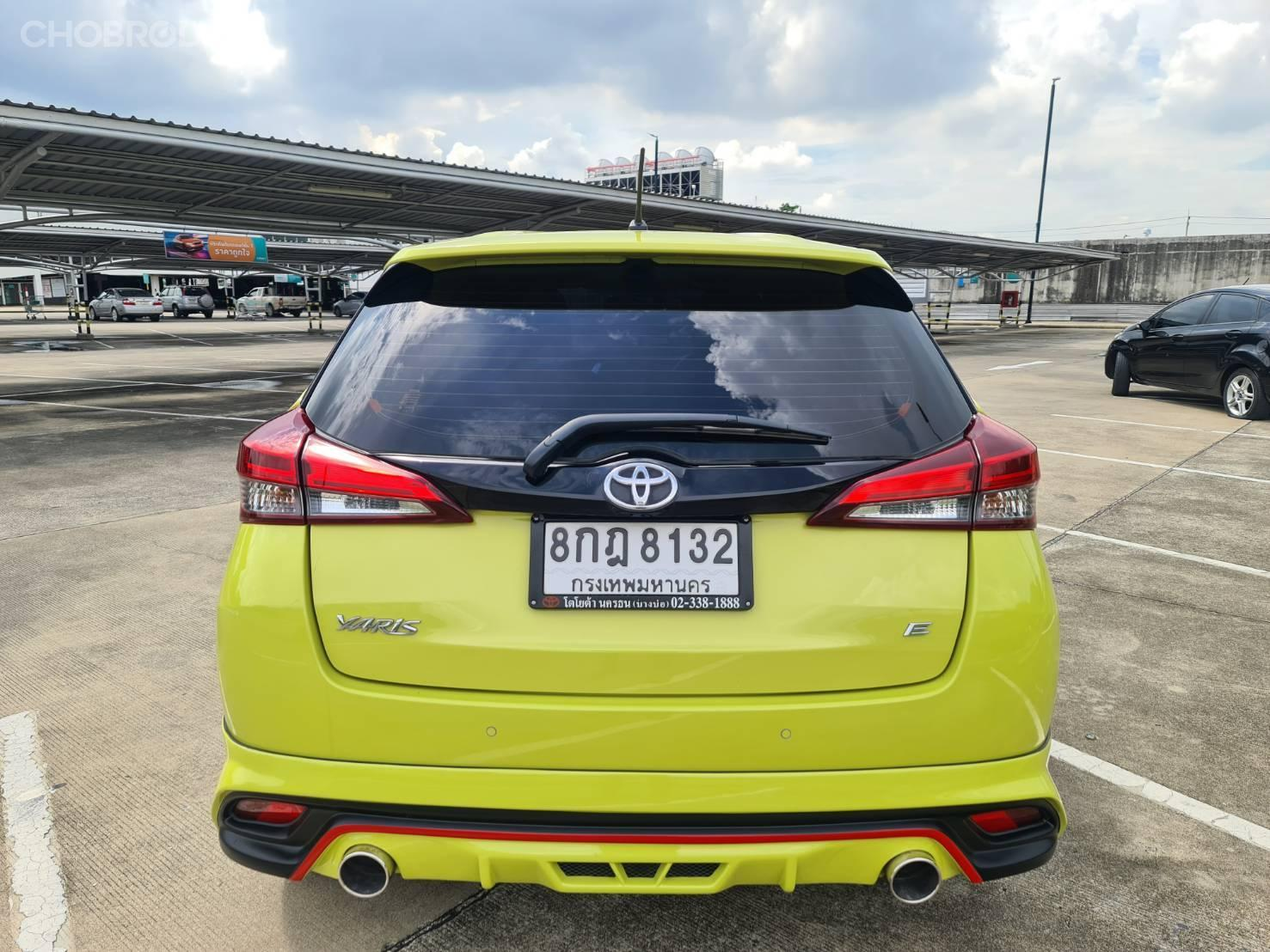license-plate: (528, 504, 758, 616)
